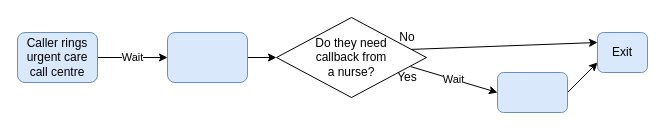
Some shapes in this 665 by 130 pixel diagram are drawn without their labels. The centre of each missing label's shape, as x and y in pixels:
Speak with call operator: the point at 207,57
Speak with nurse: the point at 532,92
